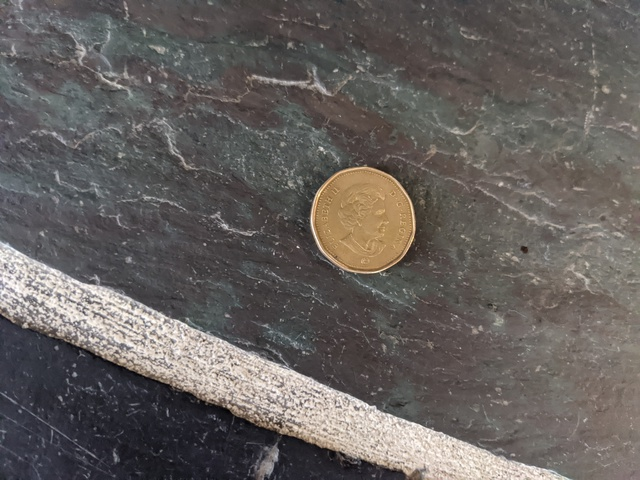loonie: (309, 160, 421, 273)
